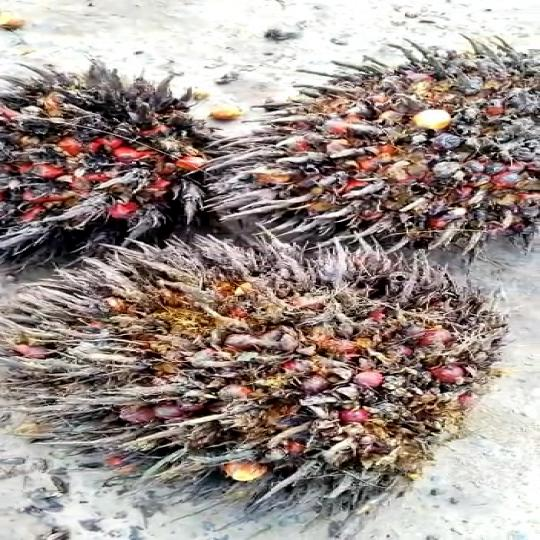terlalu masak: (0, 252, 508, 503), (211, 58, 540, 255)
